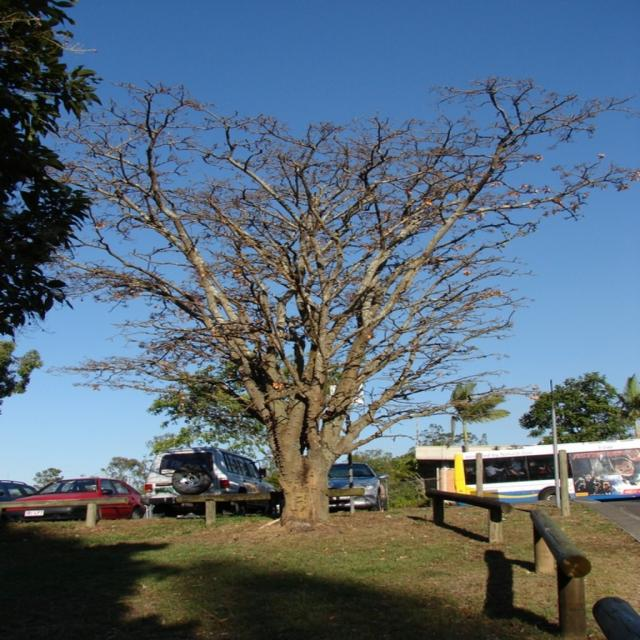other: (141, 446, 279, 515), (0, 474, 150, 520), (327, 462, 391, 509), (0, 480, 32, 497)
